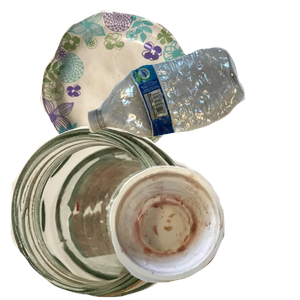glass: (10, 126, 220, 300)
paper: (37, 10, 219, 167)
plastic: (85, 45, 300, 175)
trash: (107, 163, 300, 300)
